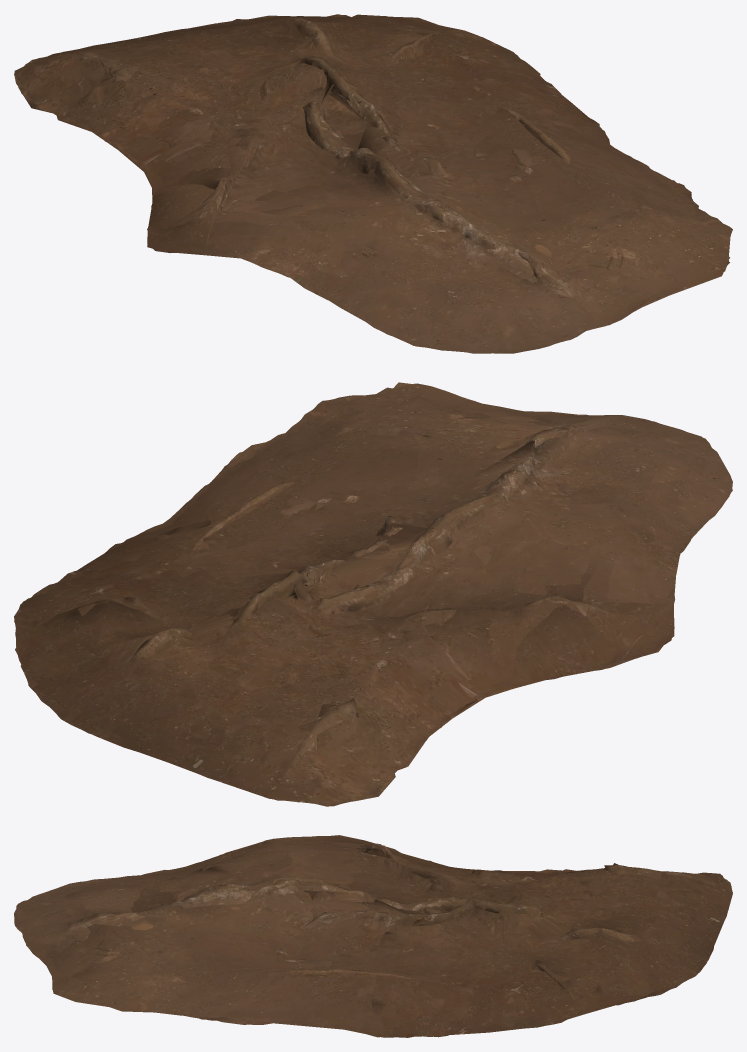
File: root_cluster_02.glb
The picture shows the model from 3 angles, top to bottom: view 1: azimuth 30°, elevation 25°; view 2: azimuth 150°, elevation 25°; view 3: azimuth 270°, elevation 25°; orthographic projection. The views are drawn at different scales.
Bounding box in the file's own units: 1.45 × 0.2073 × 2.28.
1 material, 1 textured.
